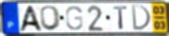2: (86, 4, 105, 33)
A: (18, 5, 45, 33)
D: (131, 4, 153, 32)
G: (64, 5, 84, 31)
O: (39, 5, 63, 32)
T: (112, 6, 129, 31)
